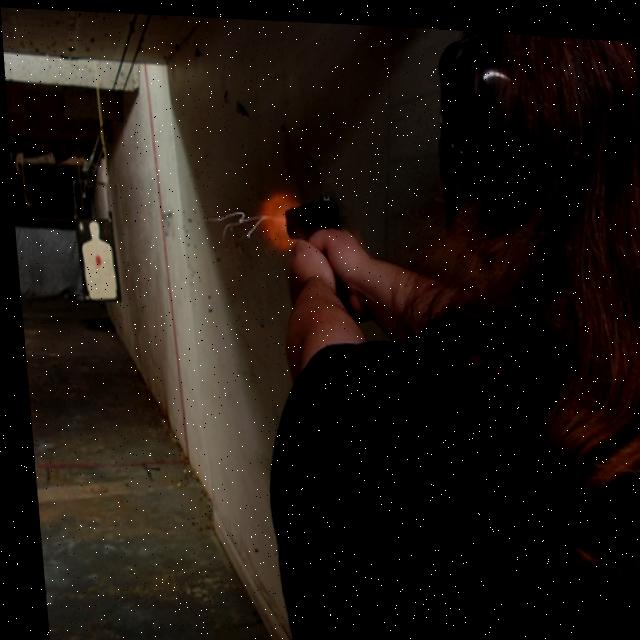pistol: (278, 183, 338, 238)
